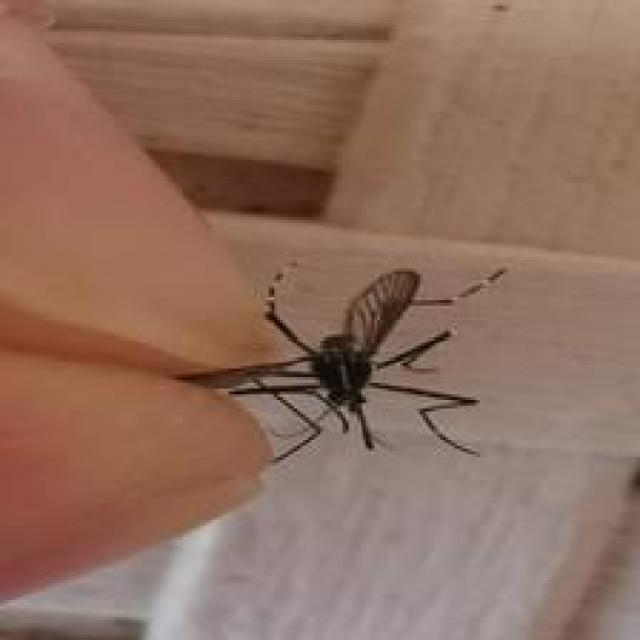Aedes albopictus: (174, 259, 509, 467)
